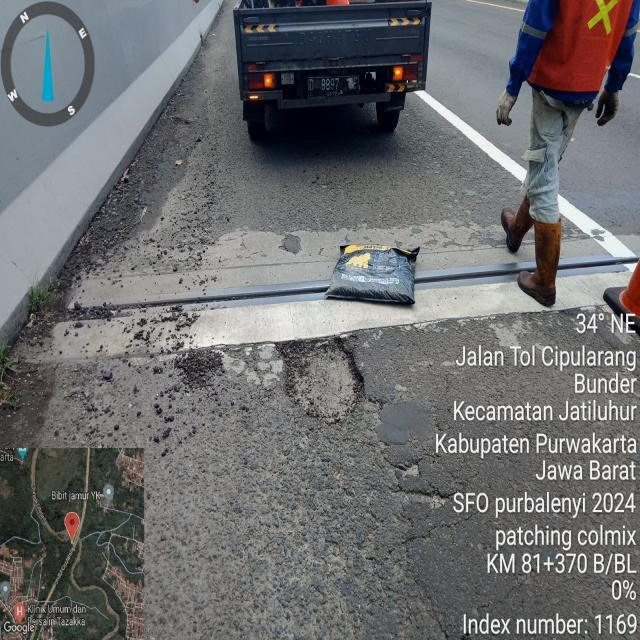Buraco: (272, 333, 368, 429)
